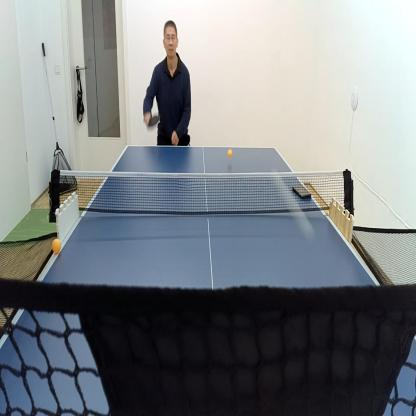Ball: (274, 170, 312, 236), (53, 238, 62, 254), (228, 148, 232, 158)
